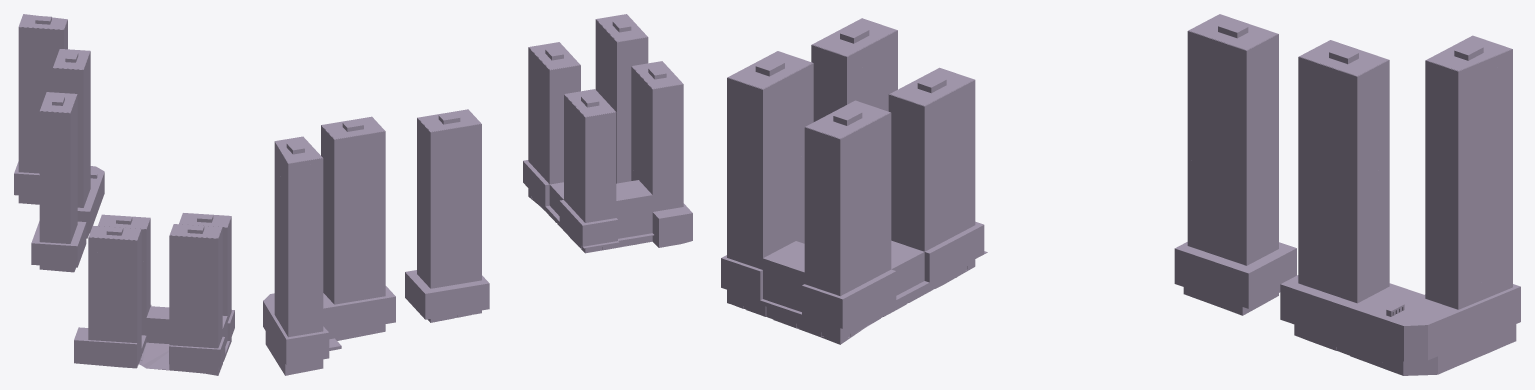
Rendered from cooksville-toc-sep2026-envelopes.glb.
3 renders of one model, left to right at view 1: azimuth 30°, elevation 25°; view 2: azimuth 150°, elevation 25°; view 3: azimuth 270°, elevation 25°, orthographic. The views are drawn at different scales.
Visible parts, largest first — view 1: Cooksville-IO-Step4-architecture; view 2: Cooksville-IO-Step4-architecture; view 3: Cooksville-IO-Step4-architecture.
Boxes of the visible parts, x1,y1,x2,y2 form: Cooksville-IO-Step4-architecture: [14, 14, 234, 375]; Cooksville-IO-Step4-architecture: [263, 14, 692, 375]; Cooksville-IO-Step4-architecture: [721, 14, 1520, 375].
Bounding box in the file's own units: 171 × 154 × 374.
